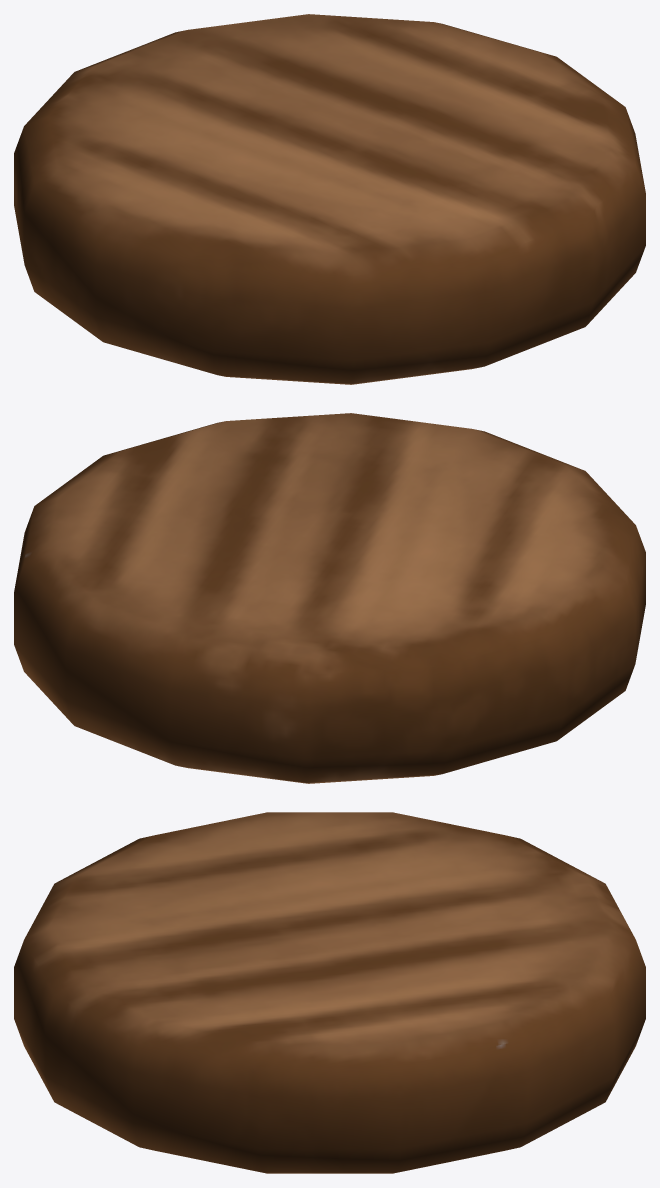
File: MSH_Carne_Cocinada.fbx
3 renders of one model, top to bottom at view 1: azimuth 30°, elevation 25°; view 2: azimuth 150°, elevation 25°; view 3: azimuth 270°, elevation 25°, orthographic.
Visible parts, largest first — view 1: MSH_Carne_Cocinada; view 2: MSH_Carne_Cocinada; view 3: MSH_Carne_Cocinada.
Boxes of the visible parts, box(x1,y1,x2,y2) form: MSH_Carne_Cocinada: box(14, 14, 645, 384); MSH_Carne_Cocinada: box(14, 413, 645, 783); MSH_Carne_Cocinada: box(14, 812, 645, 1173).
Size of the model in its own units: 12.53 by 12.85 by 2.9.
1 material, 1 textured.
